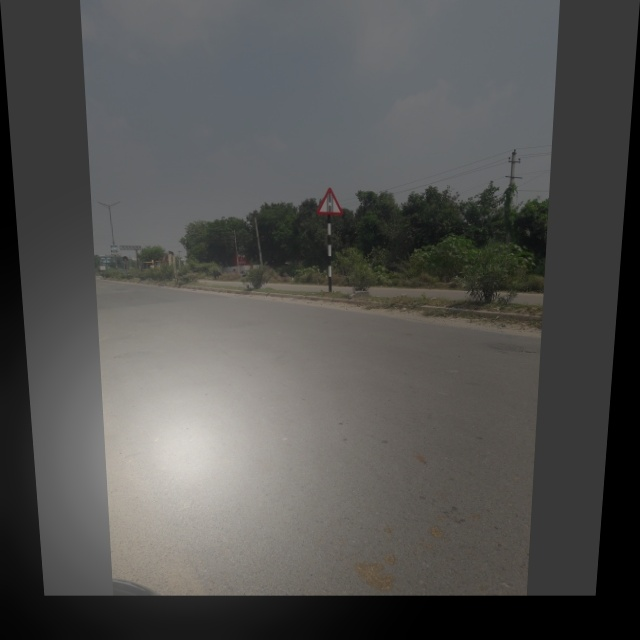Gap_in_Median: (311, 182, 350, 219)
